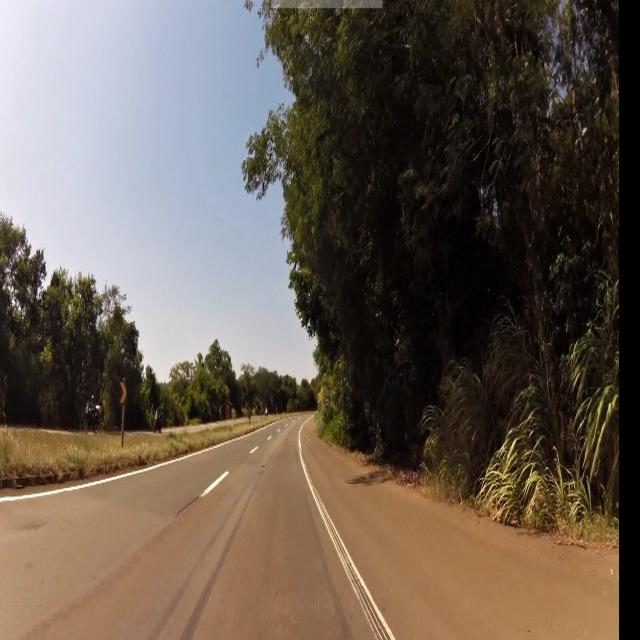Del: (120, 382, 127, 404)
